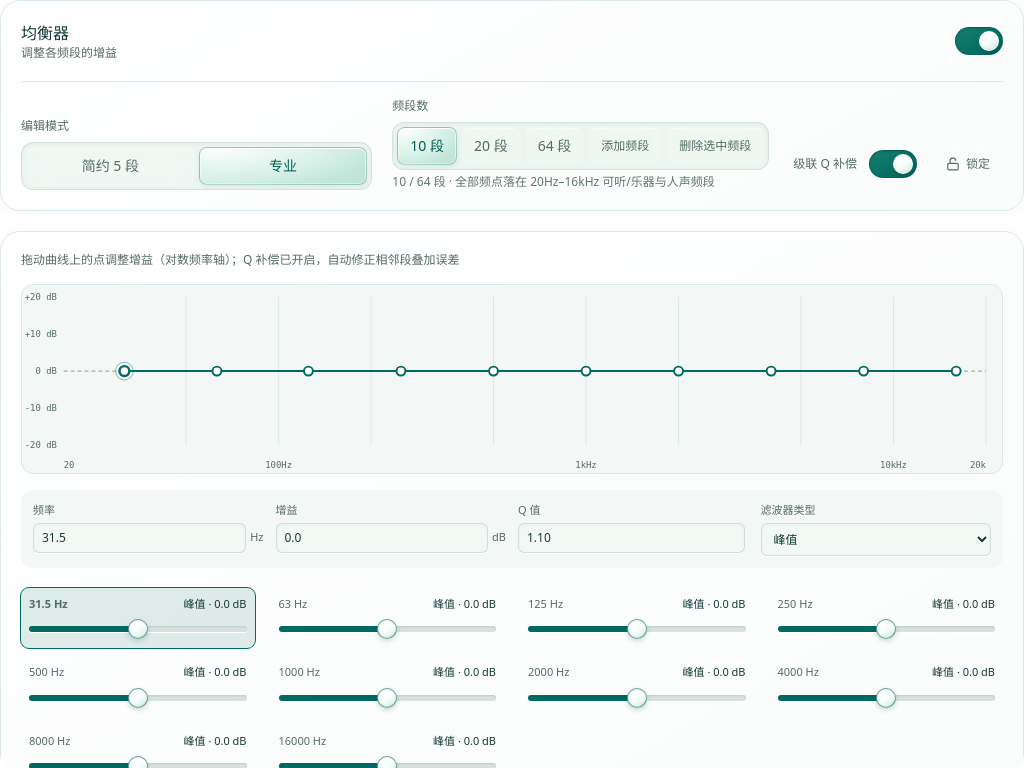
Test: HSE 均衡器编辑 › 64 段布局一键生成 64 个对数频点（20Hz–16kHz），新频段默认 Q 9.4
Step 1. Click the button "64 段" → (555,146), box x1=525 y1=127 x2=584 y2=165
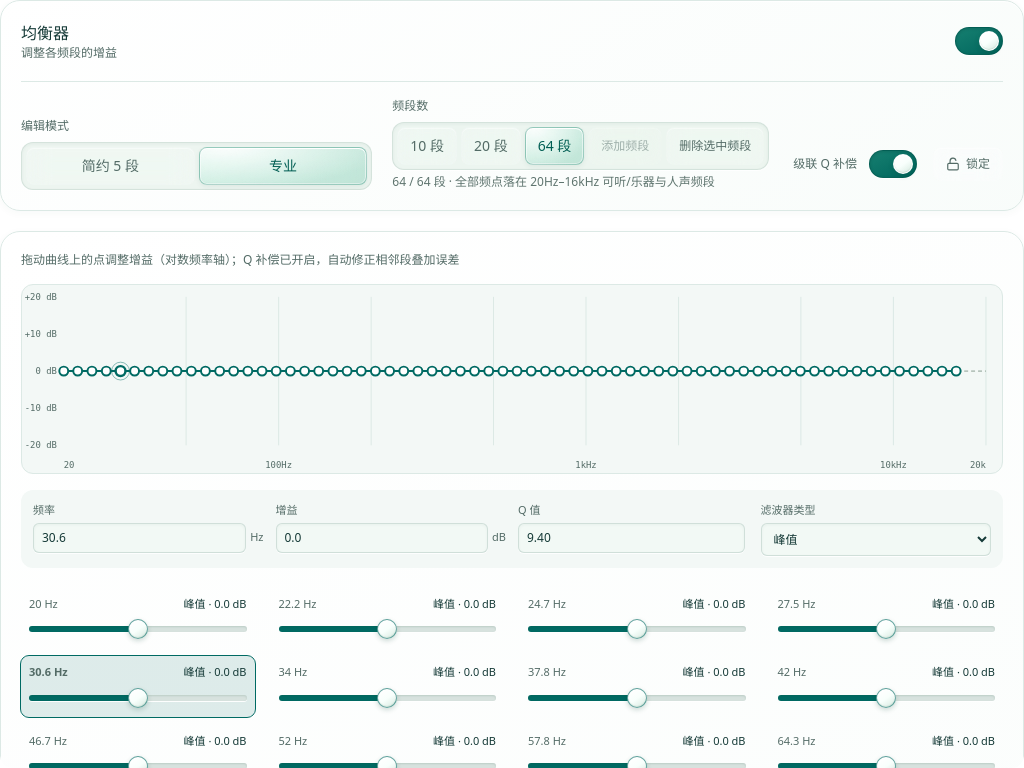
Expected: the text "64 / 64 段 · 全部频点落在 20Hz–16kHz 可听/乐器与人声频段" is shown, x1=392 y1=174 x2=769 y2=190
